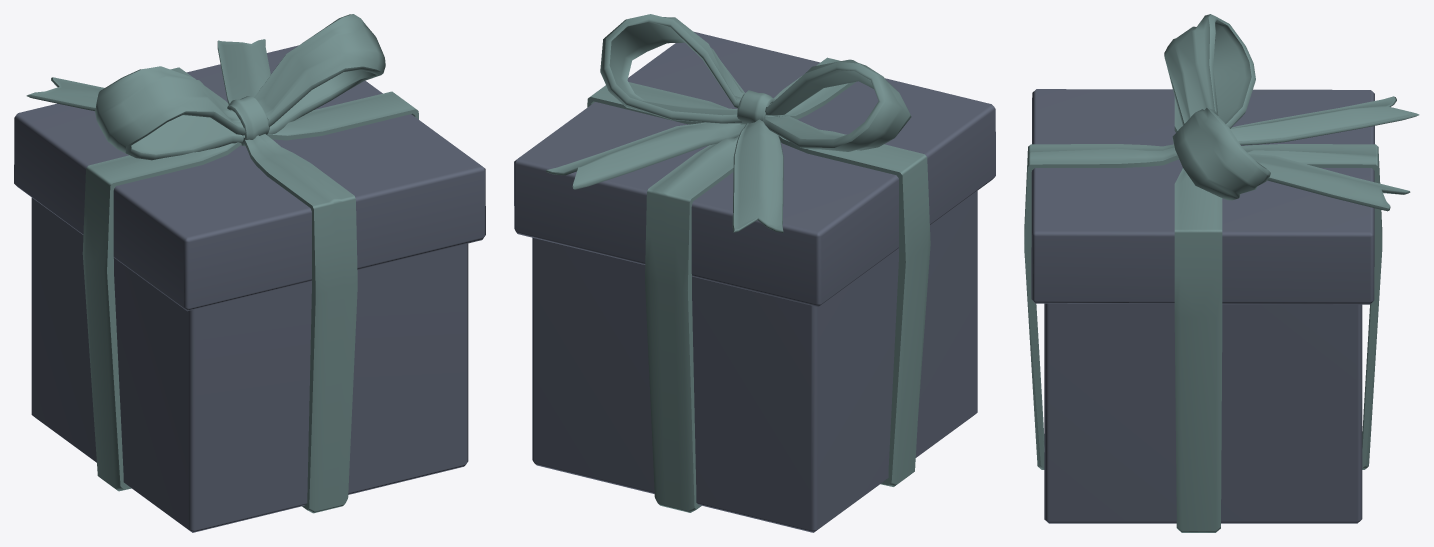
File: BirthdayPresent.fbx
3 renders of one model, left to right at view 1: azimuth 30°, elevation 25°; view 2: azimuth 150°, elevation 25°; view 3: azimuth 270°, elevation 25°, orthographic. The views are drawn at different scales.
Visible parts, largest first — view 1: BirthdayPresent_BoxBottom, BirthdayPresent_BoxLid, BirthdayPresent_Ribbon1, BirthdayPresent_Ribbon6, BirthdayPresent_Ribbon5, BirthdayPresent_Ribbon3, BirthdayPresent_Ribbon4, BirthdayPresent_Ribbon2; view 2: BirthdayPresent_BoxBottom, BirthdayPresent_BoxLid, BirthdayPresent_Ribbon6, BirthdayPresent_Ribbon1, BirthdayPresent_Ribbon5, BirthdayPresent_Ribbon4, BirthdayPresent_Ribbon3, BirthdayPresent_Ribbon2; view 3: BirthdayPresent_BoxBottom, BirthdayPresent_BoxLid, BirthdayPresent_Ribbon5, BirthdayPresent_Ribbon1, BirthdayPresent_Ribbon6, BirthdayPresent_Ribbon4, BirthdayPresent_Ribbon3.
Part boxes in pixels (bbox=[...]): BirthdayPresent_BoxBottom: bbox=[31, 198, 468, 532]; BirthdayPresent_BoxLid: bbox=[14, 45, 485, 311]; BirthdayPresent_Ribbon1: bbox=[95, 14, 385, 160]; BirthdayPresent_Ribbon6: bbox=[170, 67, 357, 513]; BirthdayPresent_Ribbon5: bbox=[82, 91, 418, 491]; BirthdayPresent_Ribbon3: bbox=[217, 39, 270, 104]; BirthdayPresent_Ribbon4: bbox=[26, 77, 184, 115]; BirthdayPresent_Ribbon2: bbox=[227, 96, 269, 146]; BirthdayPresent_BoxBottom: bbox=[532, 191, 977, 532]; BirthdayPresent_BoxLid: bbox=[514, 32, 995, 306]; BirthdayPresent_Ribbon6: bbox=[645, 57, 856, 512]; BirthdayPresent_Ribbon1: bbox=[600, 14, 911, 151]; BirthdayPresent_Ribbon5: bbox=[587, 82, 930, 486]; BirthdayPresent_Ribbon4: bbox=[732, 119, 783, 232]; BirthdayPresent_Ribbon3: bbox=[546, 122, 745, 189]; BirthdayPresent_Ribbon2: bbox=[737, 90, 780, 124]; BirthdayPresent_BoxBottom: bbox=[1044, 303, 1362, 523]; BirthdayPresent_BoxLid: bbox=[1031, 89, 1374, 304]; BirthdayPresent_Ribbon5: bbox=[1174, 97, 1222, 532]; BirthdayPresent_Ribbon1: bbox=[1164, 14, 1270, 200]; BirthdayPresent_Ribbon6: bbox=[1024, 144, 1382, 469]; BirthdayPresent_Ribbon4: bbox=[1230, 96, 1419, 145]; BirthdayPresent_Ribbon3: bbox=[1249, 154, 1410, 211].
Size of the model in its own units: 0.2323 by 0.287 by 0.2566.
